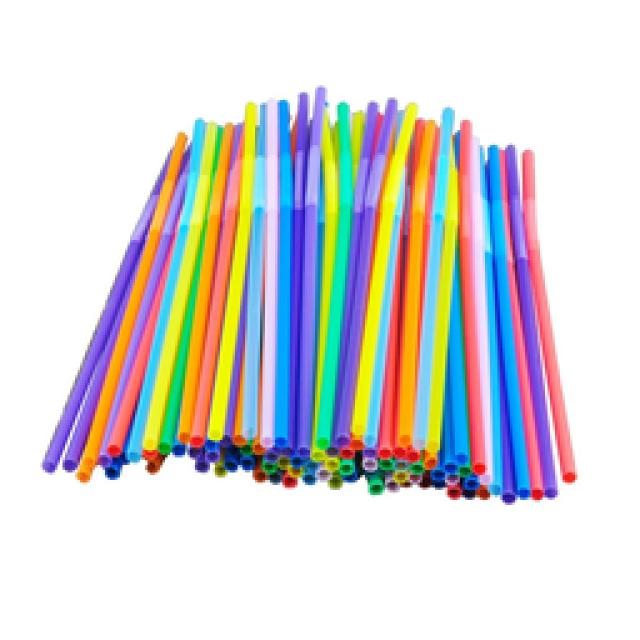plastic: (40, 85, 578, 500)
